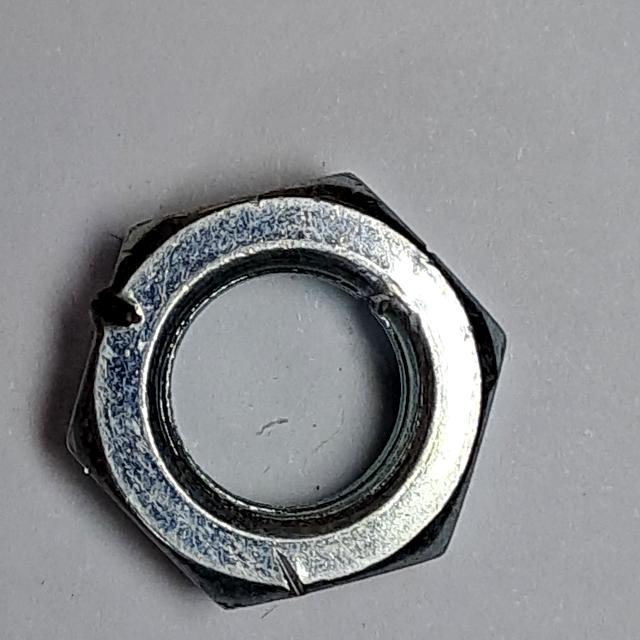Scratches: (47, 164, 521, 626)
